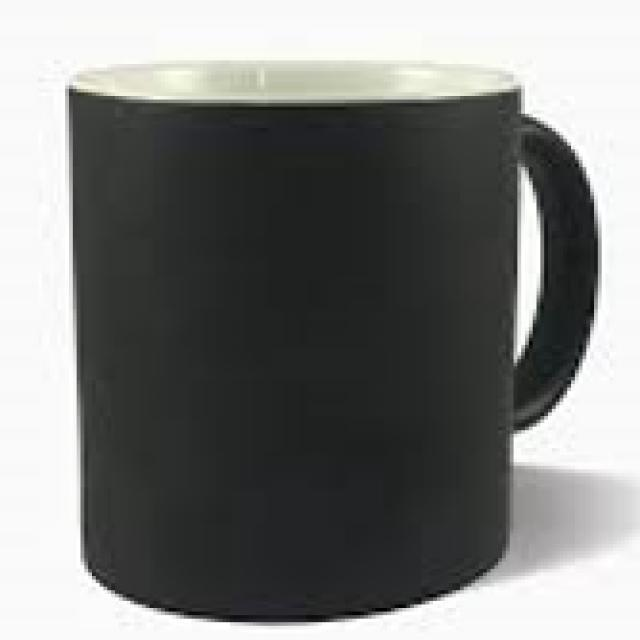taza: (64, 57, 598, 623)
